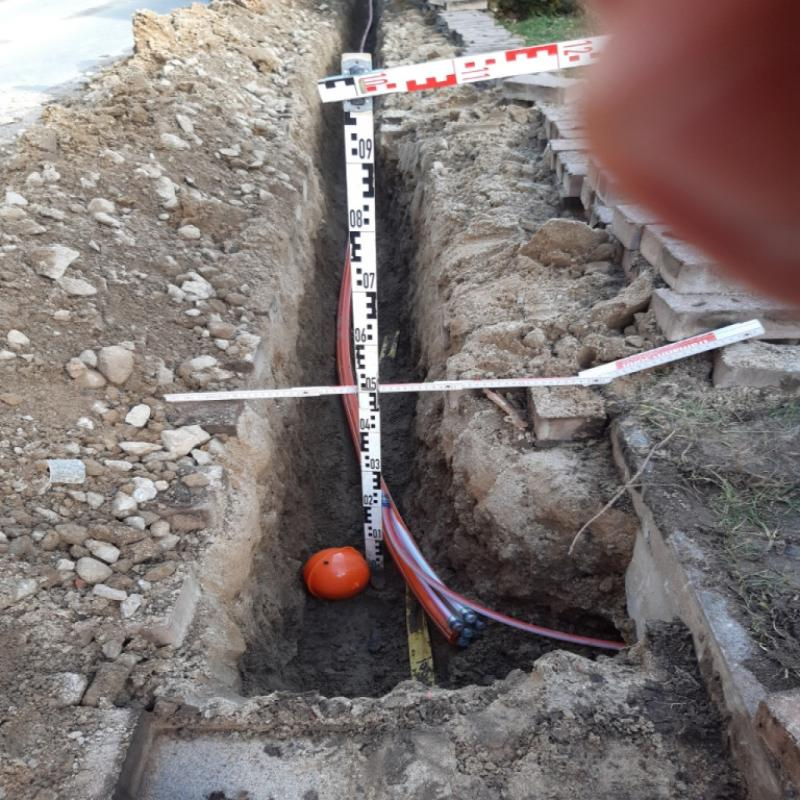Kugelmarker: (304, 545, 370, 599)
Orang-Speednetrohrchen: (382, 477, 485, 646), (337, 243, 361, 458)
